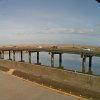Bridge: (4, 25, 94, 67)
